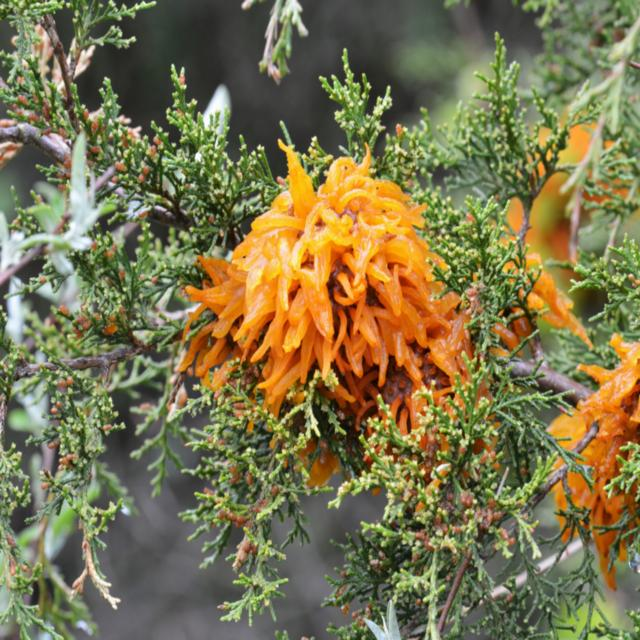Gymnosporangium_Rusts: (176, 136, 511, 499)
